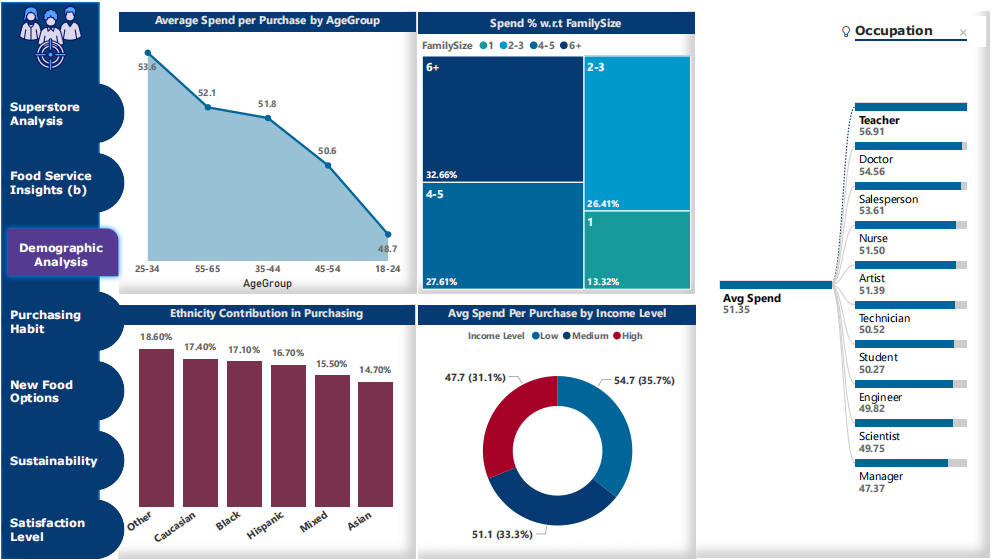

Layout of this report page (visuals, bound fields, positions):
{"tool":"powerbi","page":{"name":"Demographics","canvas":[1280,720],"ordinal":5},"visuals":[{"type":"shape","box":[0,0,126.5,720],"z":0,"group":"g1"},{"type":"areaChart","title":"Average Spend per Purchase by AgeGroup","fields":{"Category":["Demographic Analysis.AgeGroup"],"Y":["Avg(Purchasing Habits.AverageSpendPerPurchase)"]},"box":[152.8,11.8,383.5,364.4],"z":0},{"type":"group","id":"g1","title":"Group 2","box":[0,0,126.5,720],"z":1000,"group":"g6"},{"type":"shape","box":[0,283.4,159.4,78],"z":1000,"group":"g3"},{"type":"donutChart","title":"Avg Spend Per Purchase by Income Level","fields":{"Category":["Demographic Analysis.Income Level"],"Y":["Avg(Purchasing Habits.AverageSpendPerPurchase)"]},"box":[539.3,390.9,360,329.1],"z":1000},{"type":"treemap","title":"Spend % w.r.t FamilySize","fields":{"Details":["Demographic Analysis.FamilySize"],"Values":["Demographic Analysis.FamilySize%"]},"box":[539.3,11.8,357.1,364.4],"z":2000},{"type":"group","id":"g2","title":"Group 1","box":[0,104.1,159.4,615.9],"z":2000,"group":"g6"},{"type":"shape","box":[0,373.1,159.4,78],"z":2000,"group":"g3"},{"type":"group","id":"g3","title":"Group 3","box":[0,193.8,159.4,526.2],"z":2003,"group":"g2"},{"type":"lineClusteredColumnComboChart","title":"Ethnicity Contribution in Purchasing","fields":{"Category":["Demographic Analysis.Ethnicity"],"Y":["Demographic Analysis.EthnicityContribution%"]},"box":[151.3,390.9,383.5,329.1],"z":3000},{"type":"shape","box":[0,462.7,159.4,78],"z":3000,"group":"g3"},{"type":"decompositionTreeVisual","fields":{"ExplainBy":["Demographic Analysis.Occupation"],"Analyze":["Avg(Purchasing Habits.AverageSpendPerPurchase)"]},"box":[899.3,11.8,379.1,705.3],"z":4000},{"type":"shape","box":[0,104.1,159.4,78.1],"z":4000,"group":"g2"},{"type":"shape","box":[0,193.8,159.4,78],"z":5000,"group":"g3"},{"type":"shape","box":[0,552.3,159.4,78],"z":6000,"group":"g3"},{"type":"group","id":"g4","title":"Group 5","box":[0,0,159.4,720],"z":6001,"group":"g5"},{"type":"shape","box":[0,641.9,158.6,78.1],"z":7000,"group":"g3"},{"type":"image","box":[0,0,126.4,92.6],"z":7001,"group":"g5"},{"type":"group","id":"g5","title":"Group 6","box":[0,0,159.4,720],"z":7002},{"type":"group","id":"g6","title":"Group 4","box":[0,0,159.4,720],"z":11000,"group":"g4"}]}

Visuals, with their boxes in screenshot pixels (x1, y1, x2, y2), scaled from the page's 1280x720 canvas onto the 994x559 screenshot:
shape: [0, 0, 98, 558]
"Average Spend per Purchase by AgeGroup" areaChart: [119, 9, 416, 292]
"Group 2" group: [0, 0, 98, 558]
shape: [0, 220, 124, 281]
"Avg Spend Per Purchase by Income Level" donutChart: [419, 303, 698, 558]
"Spend % w.r.t FamilySize" treemap: [419, 9, 696, 292]
"Group 1" group: [0, 81, 124, 558]
shape: [0, 290, 124, 350]
"Group 3" group: [0, 150, 124, 558]
"Ethnicity Contribution in Purchasing" lineClusteredColumnComboChart: [117, 303, 415, 558]
shape: [0, 359, 124, 420]
decompositionTreeVisual - Demographic Analysis.Occupation x Avg(Purchasing Habits.AverageSpendPerPurchase): [698, 9, 993, 557]
shape: [0, 81, 124, 141]
shape: [0, 150, 124, 211]
shape: [0, 429, 124, 489]
"Group 5" group: [0, 0, 124, 558]
shape: [0, 498, 123, 558]
image: [0, 0, 98, 72]
"Group 6" group: [0, 0, 124, 558]
"Group 4" group: [0, 0, 124, 558]
